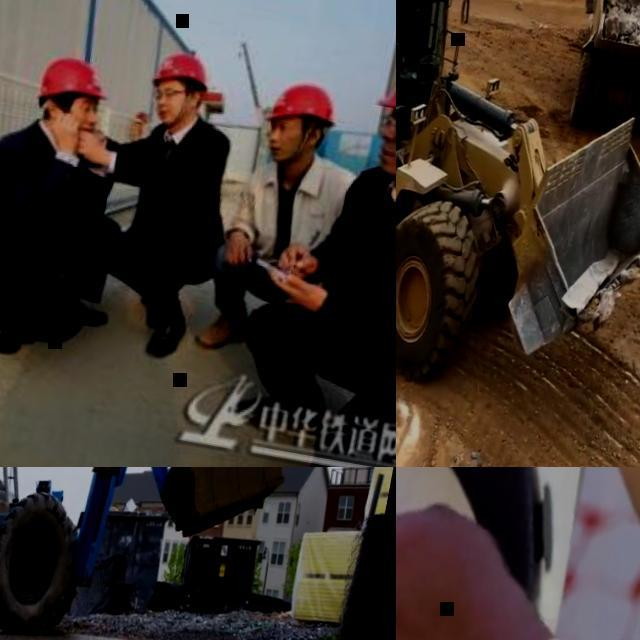helmet: (396, 467, 618, 640), (258, 75, 346, 137), (30, 52, 114, 110), (146, 47, 217, 98), (371, 16, 396, 128)
